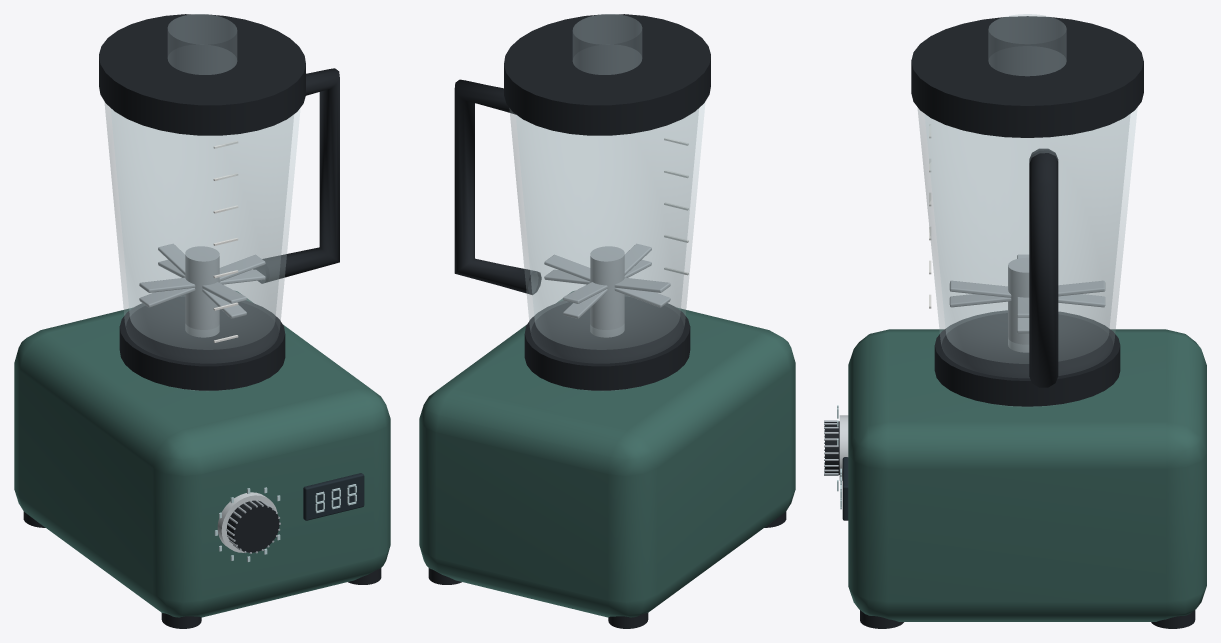
The model's file is high-performance-blender.glb.
The picture shows the model from 3 angles, left to right: view 1: azimuth 30°, elevation 25°; view 2: azimuth 150°, elevation 25°; view 3: azimuth 270°, elevation 25°; orthographic projection. The views are drawn at different scales.
Visible parts, largest first — view 1: high-performance-blender; view 2: high-performance-blender; view 3: high-performance-blender.
Boxes of the visible parts, bbox=[...] form: high-performance-blender: bbox=[14, 14, 390, 628]; high-performance-blender: bbox=[419, 14, 795, 628]; high-performance-blender: bbox=[824, 14, 1206, 628].
Size of the model in its own units: 0.23 by 0.44 by 0.28.
